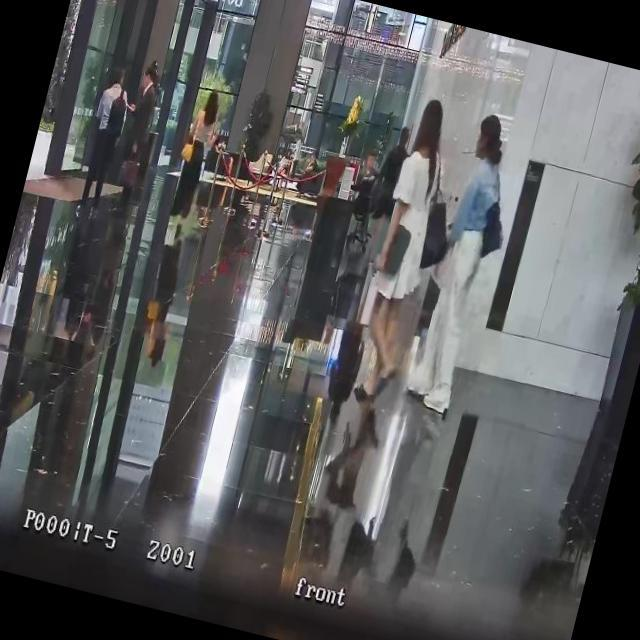person: (340, 91, 470, 410), (400, 109, 530, 418), (70, 63, 138, 220), (104, 58, 166, 218), (355, 123, 415, 269), (166, 86, 228, 223)
